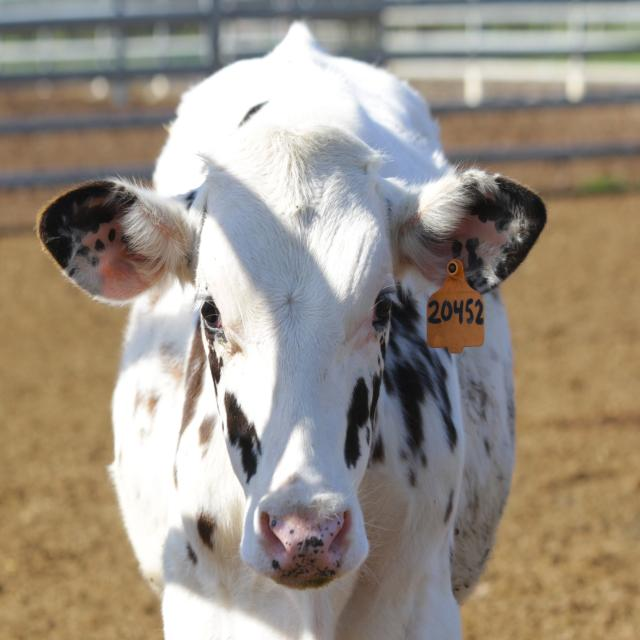cow: (38, 23, 546, 637)
